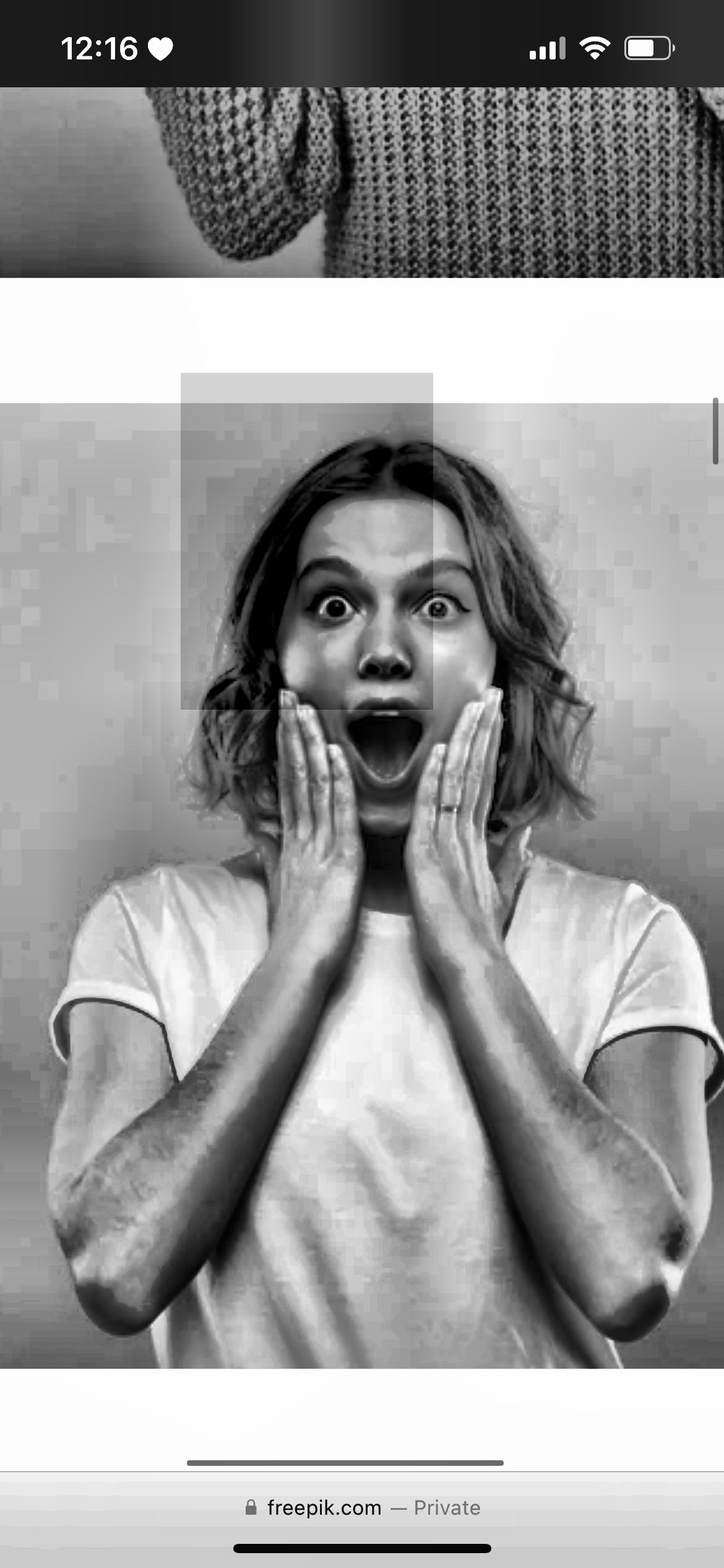surprised: (223, 461, 536, 877)
